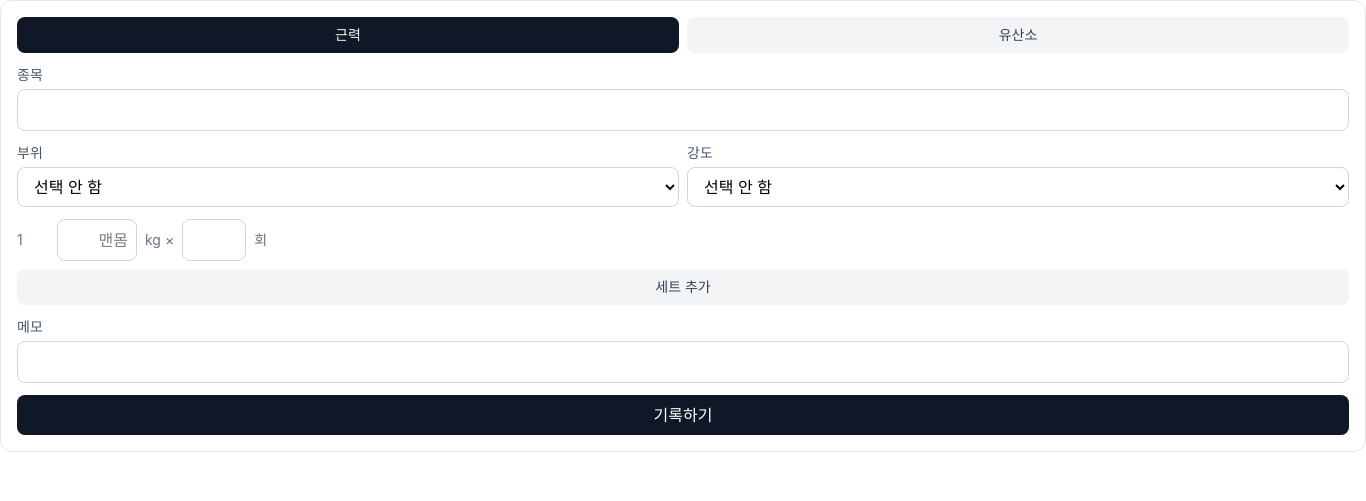
Scenario: 운동 폼 › 무게만 채우고 횟수를 비우면 저장하지 않고 알린다
Type "벤치프레스" into the field labelled "종목" at (683, 110), box [17,89,1349,131]
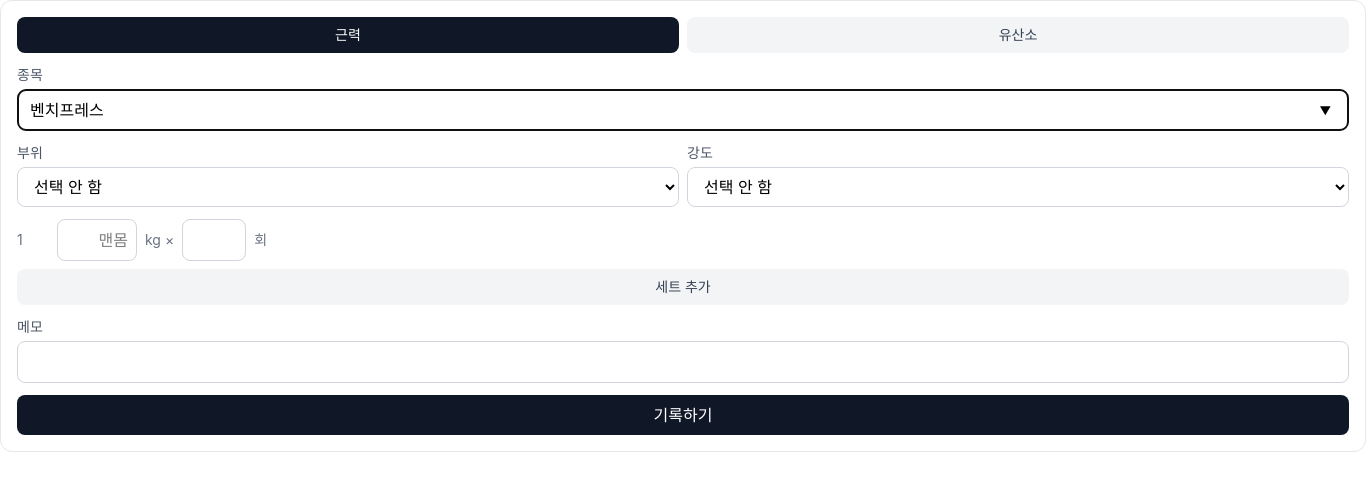
Type "60" into the field named "1세트 무게(kg)" at (97, 240), box [57,219,137,261]
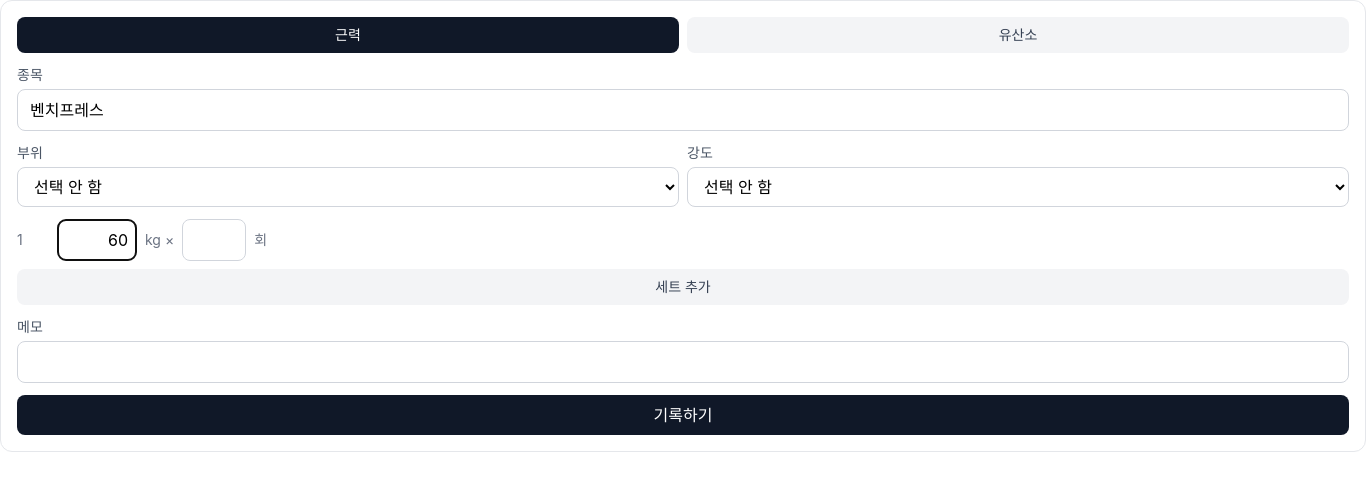
Click the button "기록하기" at (683, 415), box [17,395,1349,435]
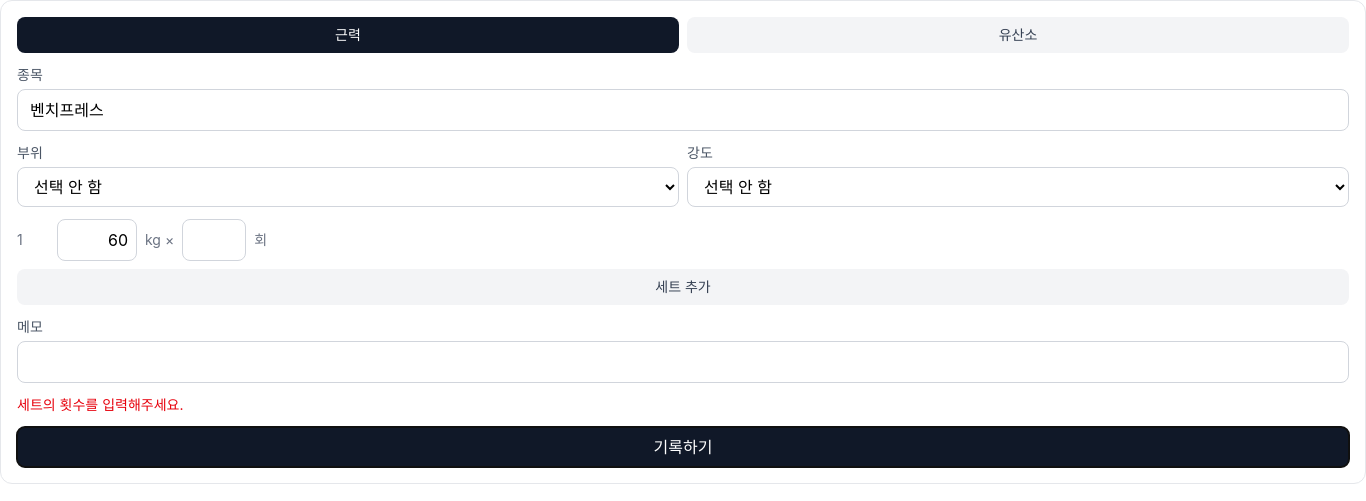
Expected: the message shows "횟수", [17,396,184,413]
